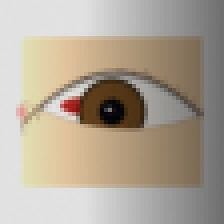hemorrhage_spot: (47, 68, 143, 144)
